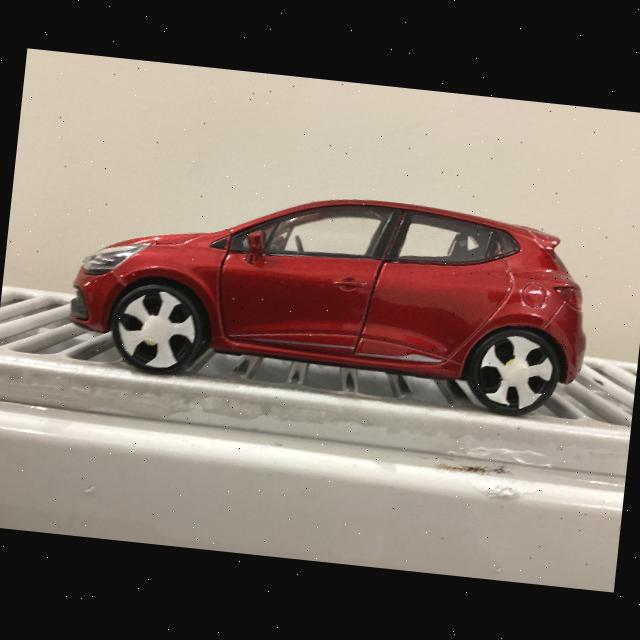Yanlis_Jant: (114, 287, 200, 373), (474, 331, 556, 412)
